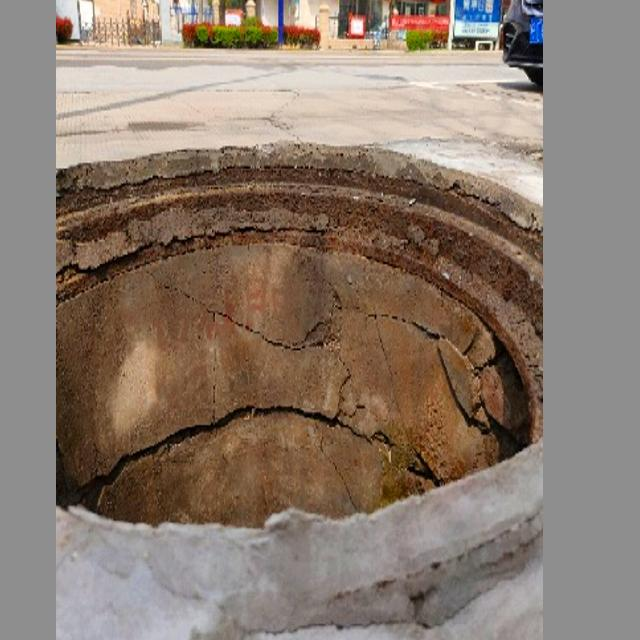lose: (56, 114, 540, 599)
